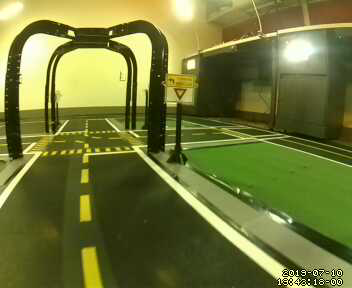Turn Yield: (166, 72, 195, 105)
